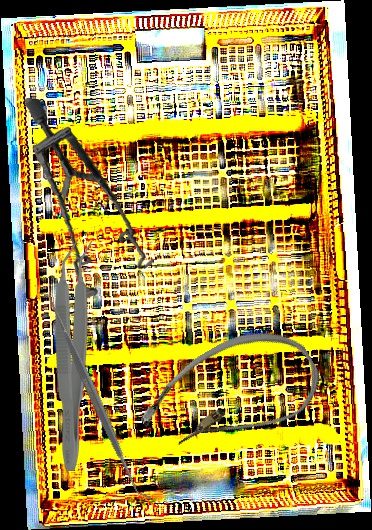Cannula: (127, 308, 333, 484)
Spatula Surgical: (35, 283, 154, 508)
Speculum: (1, 97, 173, 305)
Tissue Forceps: (55, 241, 94, 471)
